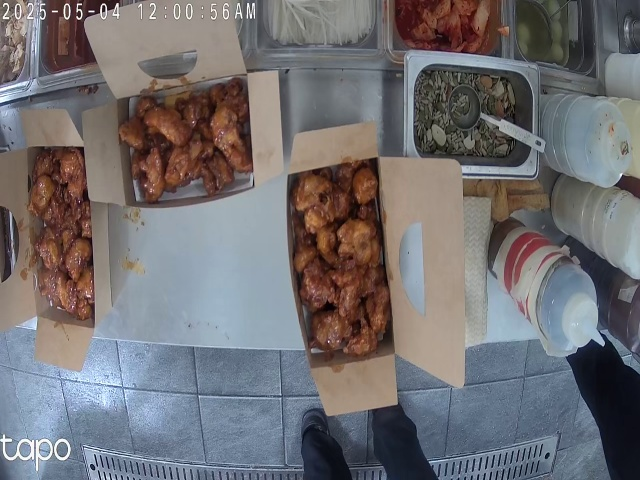delivery box: (299, 125, 453, 396), (76, 12, 284, 191), (2, 103, 107, 356)
food: (291, 178, 392, 353), (117, 96, 258, 189), (31, 152, 93, 320)
